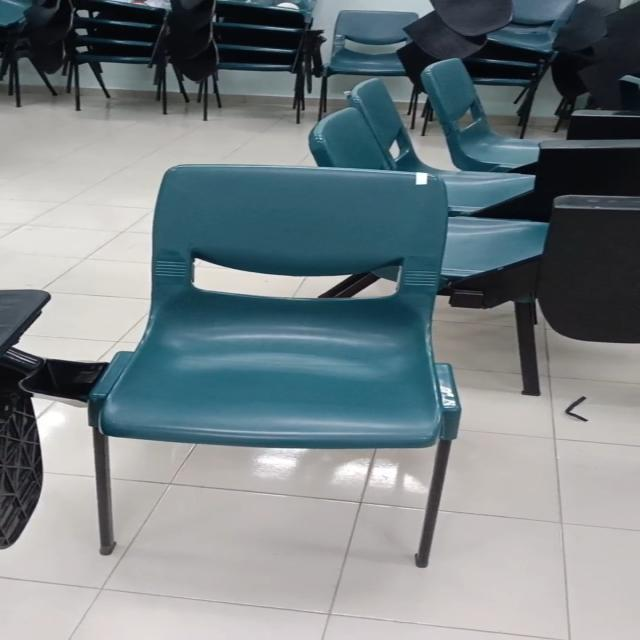sandalye: (86, 166, 460, 568), (421, 60, 538, 172), (321, 10, 419, 100)
